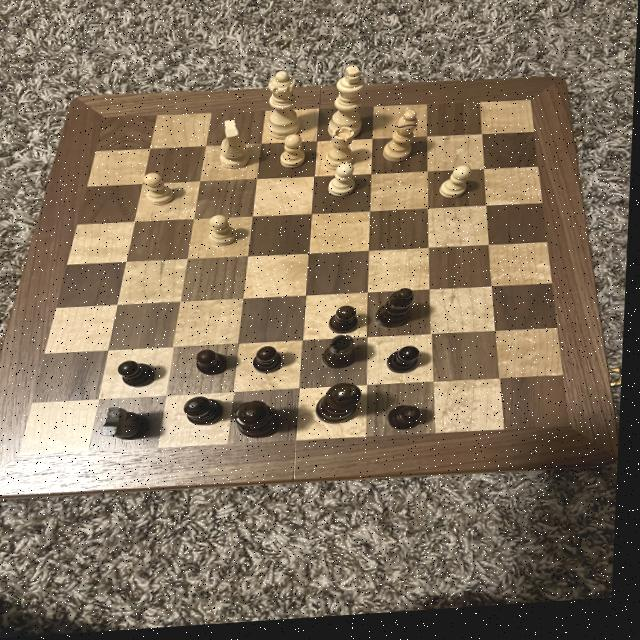bishop: (372, 289, 421, 339), (185, 397, 233, 432)
black-bishop: (304, 385, 371, 446)
black-king: (98, 403, 157, 447)
black-knight: (116, 358, 162, 394), (252, 346, 293, 381), (196, 348, 236, 381), (327, 308, 367, 341), (389, 349, 427, 382), (389, 408, 428, 437)
black-pawn: (236, 391, 302, 450)
black-queen: (320, 338, 366, 378)
black-rook: (383, 114, 422, 172)
white-bishop: (325, 68, 367, 149)
white-king: (216, 120, 257, 176)
white-knight: (141, 169, 180, 212), (437, 169, 477, 208), (324, 166, 365, 204), (206, 216, 243, 254), (278, 137, 312, 174)
white-pawn: (256, 72, 314, 147)
white-queen: (324, 127, 360, 180)
